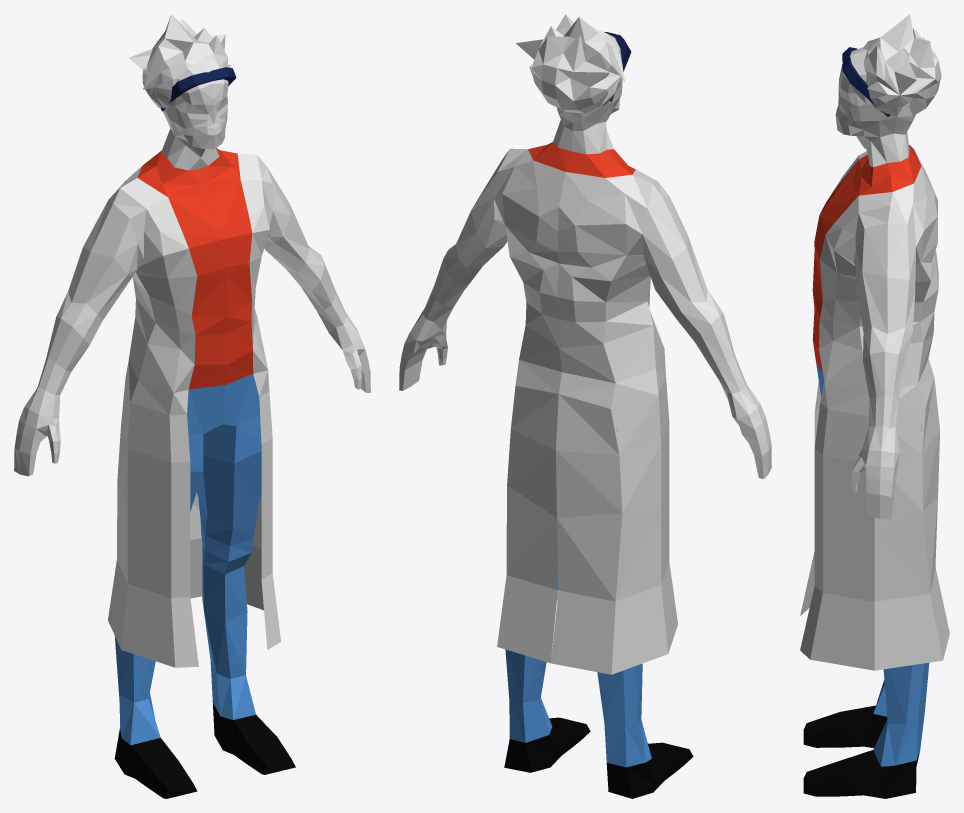
Rendered from dok_emet.fbx.
3 renders of one model, left to right at view 1: azimuth 30°, elevation 25°; view 2: azimuth 150°, elevation 25°; view 3: azimuth 270°, elevation 25°, orthographic. The views are drawn at different scales.
Parts seen in each view (by area): view 1: human, Сфера, Куб; view 2: human, Сфера; view 3: human, Сфера, Куб.
Part boxes in pixels (x1=…): human: x1=14, y1=59, x2=370, y2=798; Сфера: x1=129, y1=14, x2=231, y2=109; Куб: x1=160, y1=67, x2=236, y2=111; human: x1=399, y1=31, x2=771, y2=798; Сфера: x1=516, y1=14, x2=625, y2=113; human: x1=800, y1=47, x2=949, y2=798; Сфера: x1=863, y1=14, x2=941, y2=117; Куб: x1=842, y1=47, x2=890, y2=116.
Bounding box in the file's own units: 4227 × 8529 × 1549.
